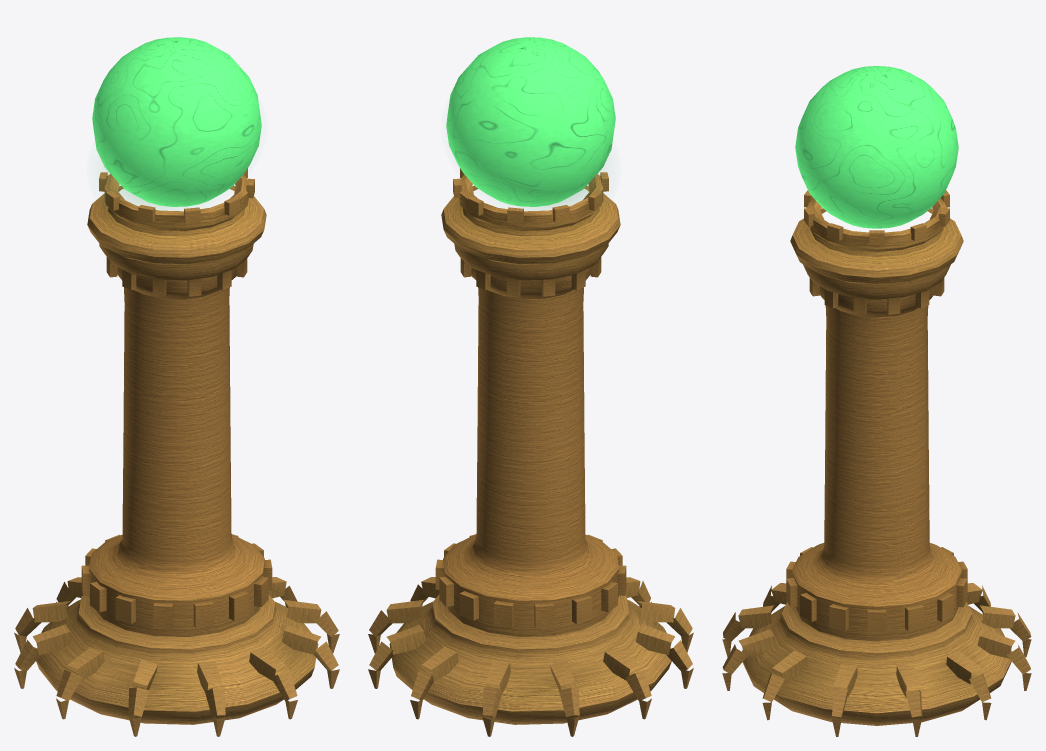
File: mm7_deco_dec67.glb
3 renders of one model, left to right at view 1: azimuth 30°, elevation 25°; view 2: azimuth 150°, elevation 25°; view 3: azimuth 270°, elevation 25°, orthographic. The views are drawn at different scales.
Visible parts, largest first — view 1: Pedestal; view 2: Pedestal; view 3: Pedestal.
Boxes of the visible parts, bbox=[...] form: Pedestal: bbox=[14, 37, 339, 736]; Pedestal: bbox=[368, 37, 693, 736]; Pedestal: bbox=[722, 66, 1031, 736].
Bounding box in the file's own units: 1.13 × 2.46 × 1.13.
Materials: 3 (3 with a texture image).
